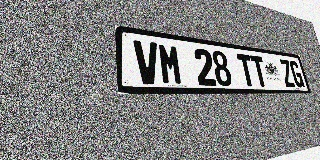2: (193, 48, 216, 86)
8: (211, 50, 233, 86)
G: (289, 60, 305, 87)
M: (157, 43, 183, 85)
T: (236, 53, 256, 87), (250, 55, 269, 87)
V: (133, 40, 161, 85)
Z: (279, 59, 296, 87)
